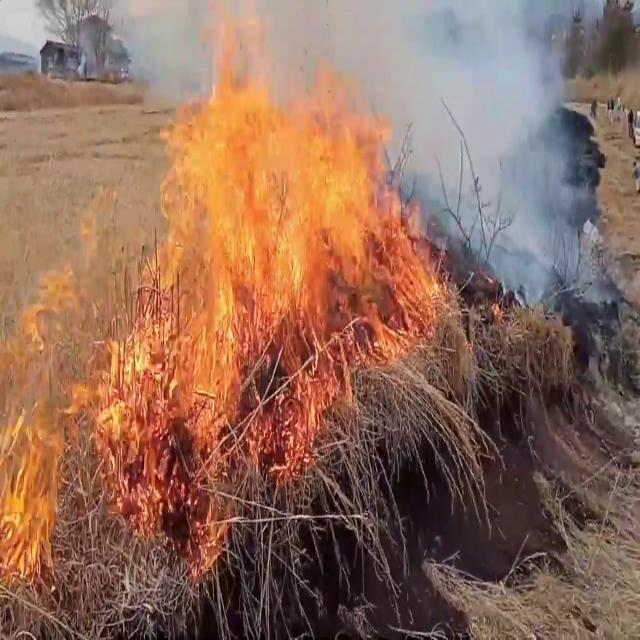Fire: (98, 22, 450, 480), (0, 184, 142, 624)
Smoke: (354, 0, 596, 289)
